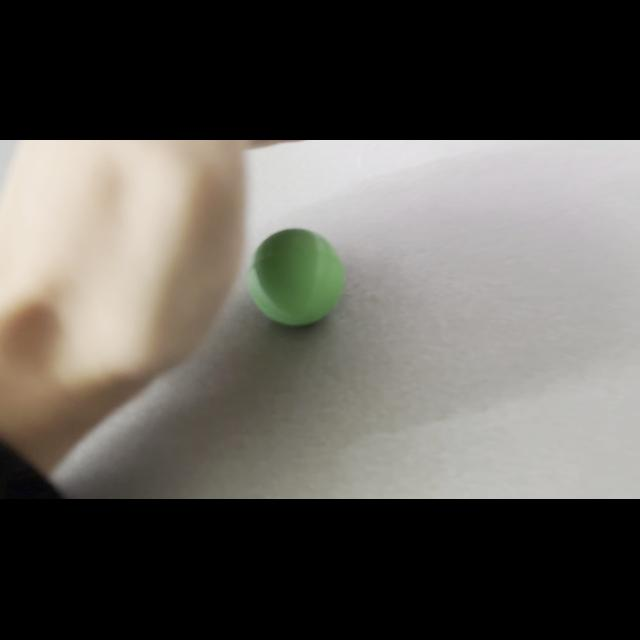objects: (244, 224, 348, 330)
